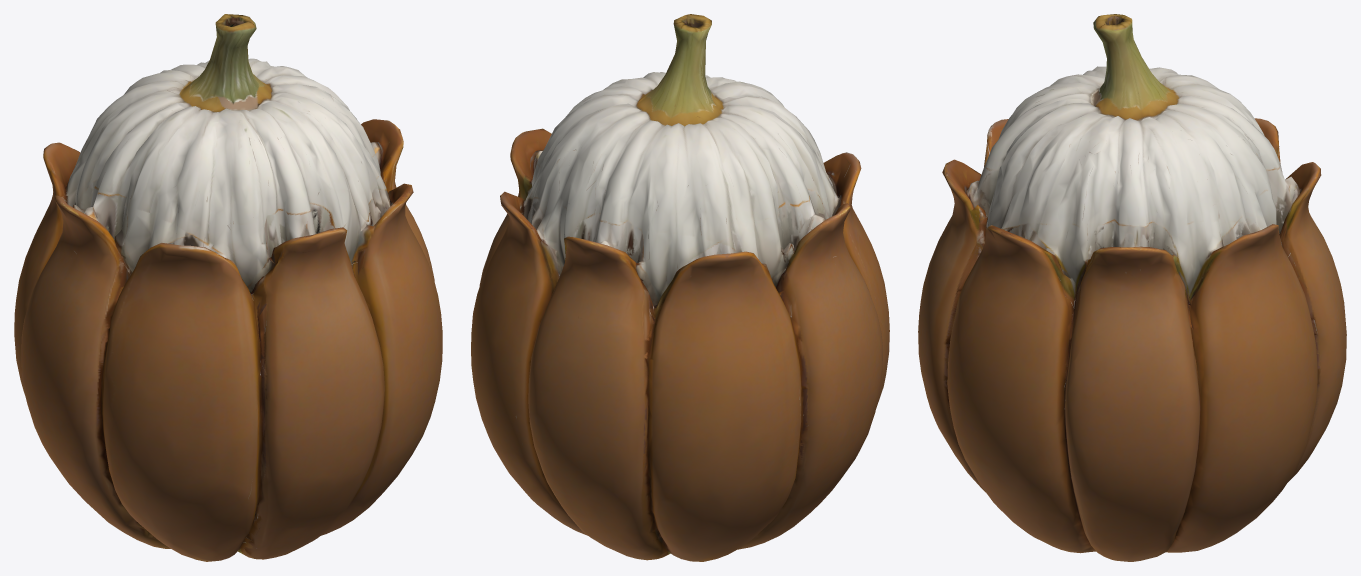
The model's file is A_3D_model_of_a_seed__0814075431_texture.fbx.
The picture shows the model from 3 angles, left to right: view 1: azimuth 30°, elevation 25°; view 2: azimuth 150°, elevation 25°; view 3: azimuth 270°, elevation 25°; orthographic projection. The views are drawn at different scales.
Visible parts, largest first — view 1: Mesh1.0; view 2: Mesh1.0; view 3: Mesh1.0.
Part boxes in pixels (x1=…): Mesh1.0: x1=14, y1=14, x2=442, y2=561; Mesh1.0: x1=471, y1=14, x2=889, y2=561; Mesh1.0: x1=918, y1=14, x2=1346, y2=561.
Bounding box in the file's own units: 151 × 199 × 151.
Materials: 1 (1 with a texture image).
